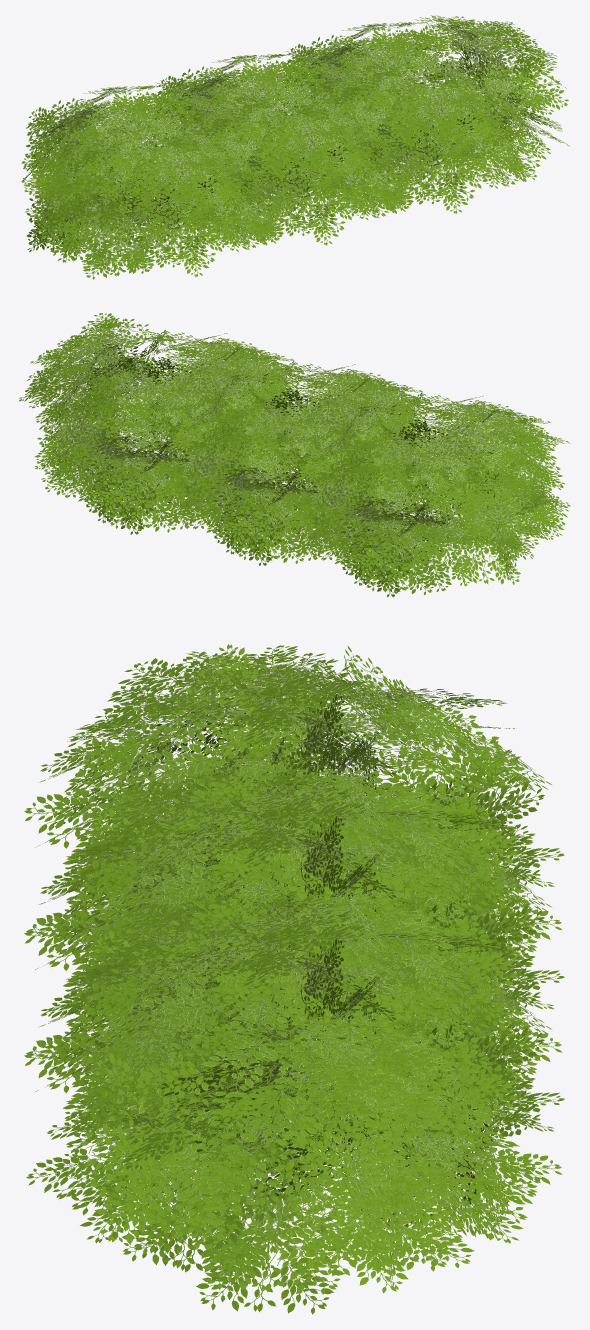
Rendered from ArbustoHD.glb.
The picture shows the model from 3 angles, top to bottom: view 1: azimuth 30°, elevation 25°; view 2: azimuth 150°, elevation 25°; view 3: azimuth 270°, elevation 25°; orthographic projection. The views are drawn at different scales.
Visible parts, largest first — view 1: ArbustoHD; view 2: ArbustoHD; view 3: ArbustoHD.
Part boxes in pixels (x1,y1,x2,y2): ArbustoHD: (21,15,570,279); ArbustoHD: (19,313,570,597); ArbustoHD: (24,644,564,1314).
Size of the model in its own units: 81.7 by 23.72 by 38.84.
1 material, 1 textured.
